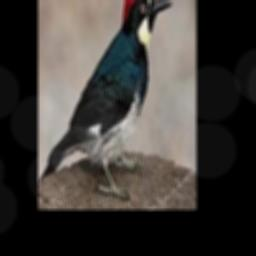Woodpecker: (40, 0, 173, 197)
